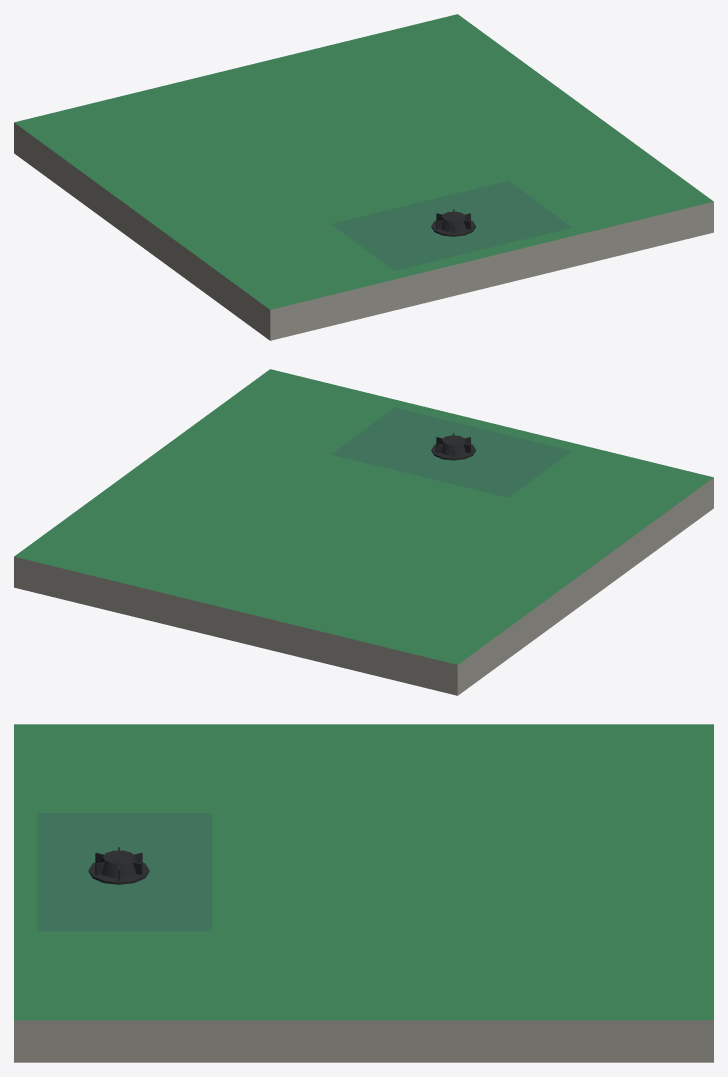
File: SC_Bld_Villa_Roof_Slab_3x3_Drain.gltf
3 views of the same model, one above another, from view 1: azimuth 30°, elevation 25°; view 2: azimuth 150°, elevation 25°; view 3: azimuth 270°, elevation 25° (orthographic). The views are drawn at different scales.
Parts seen in each view (by area): view 1: SC_Bld_Villa_Roof_Slab_3x3_Drain; view 2: SC_Bld_Villa_Roof_Slab_3x3_Drain; view 3: SC_Bld_Villa_Roof_Slab_3x3_Drain.
Part boxes in pixels (x1=…): SC_Bld_Villa_Roof_Slab_3x3_Drain: x1=14, y1=14, x2=713, y2=340; SC_Bld_Villa_Roof_Slab_3x3_Drain: x1=14, y1=369, x2=713, y2=695; SC_Bld_Villa_Roof_Slab_3x3_Drain: x1=14, y1=724, x2=713, y2=1062.
Size of the model in its own units: 3 by 0.272 by 3.
1 material, 1 textured.
